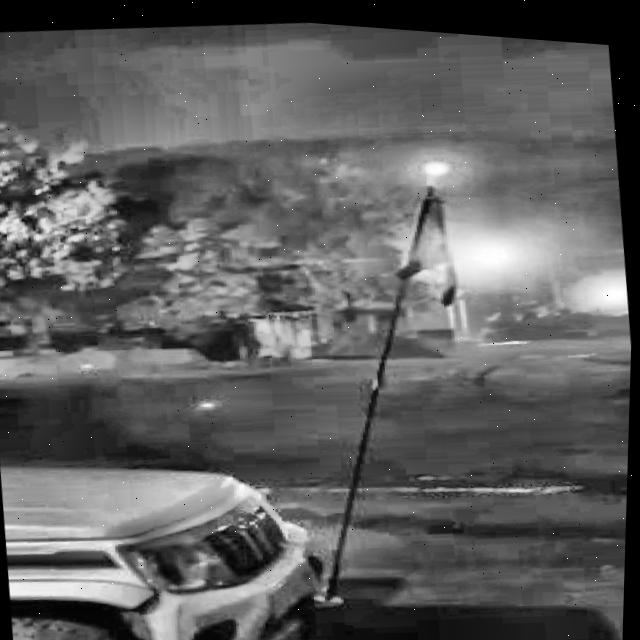light_vehicle: (0, 278, 352, 640)
